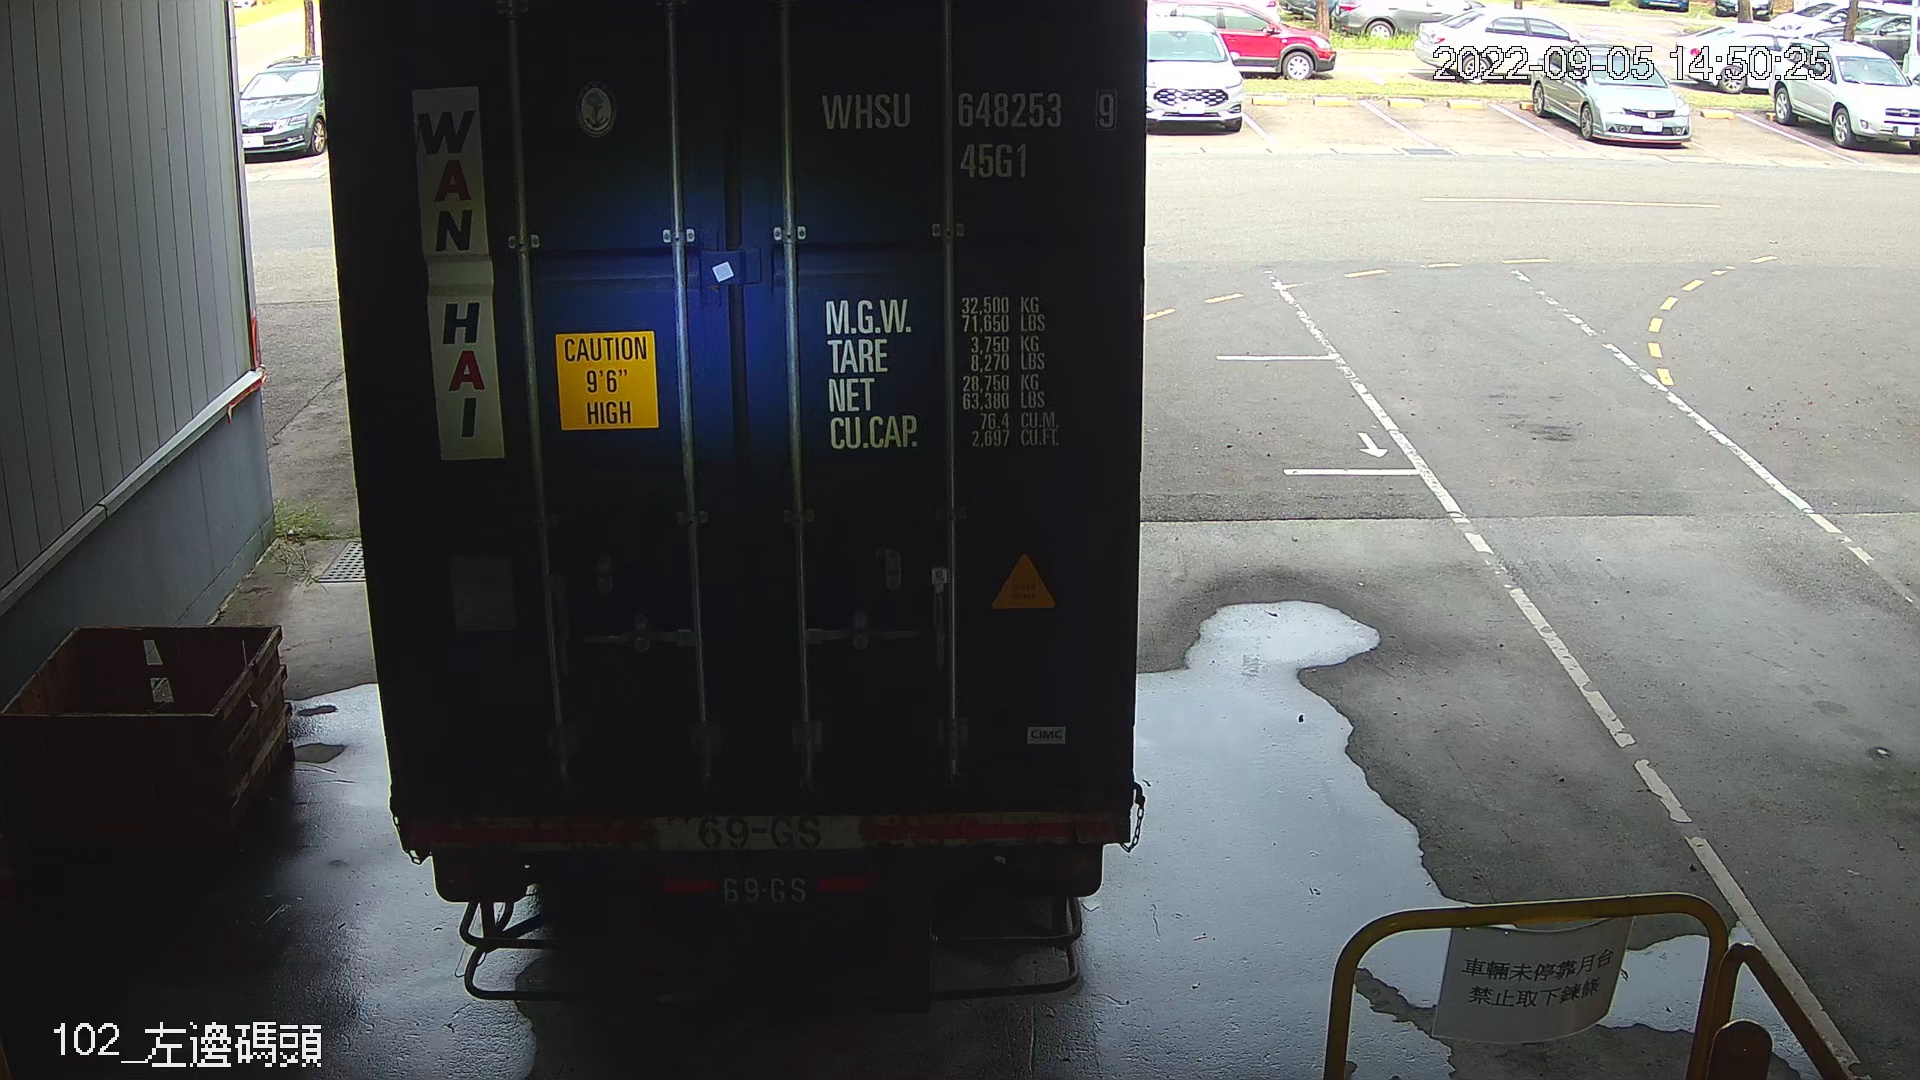container: (810, 74, 1127, 191)
